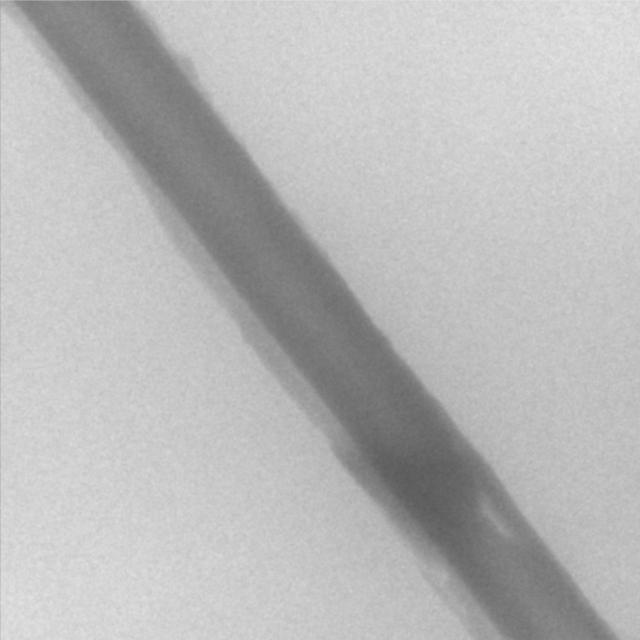unfused: (477, 481, 517, 559)
